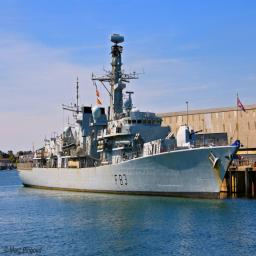Fragata: (18, 31, 244, 204)
